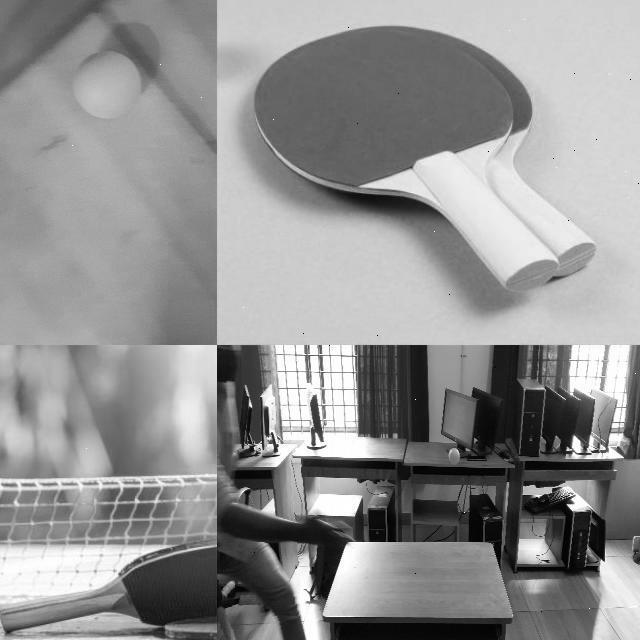ping-pong-ball: (70, 51, 142, 120), (448, 449, 459, 465)
